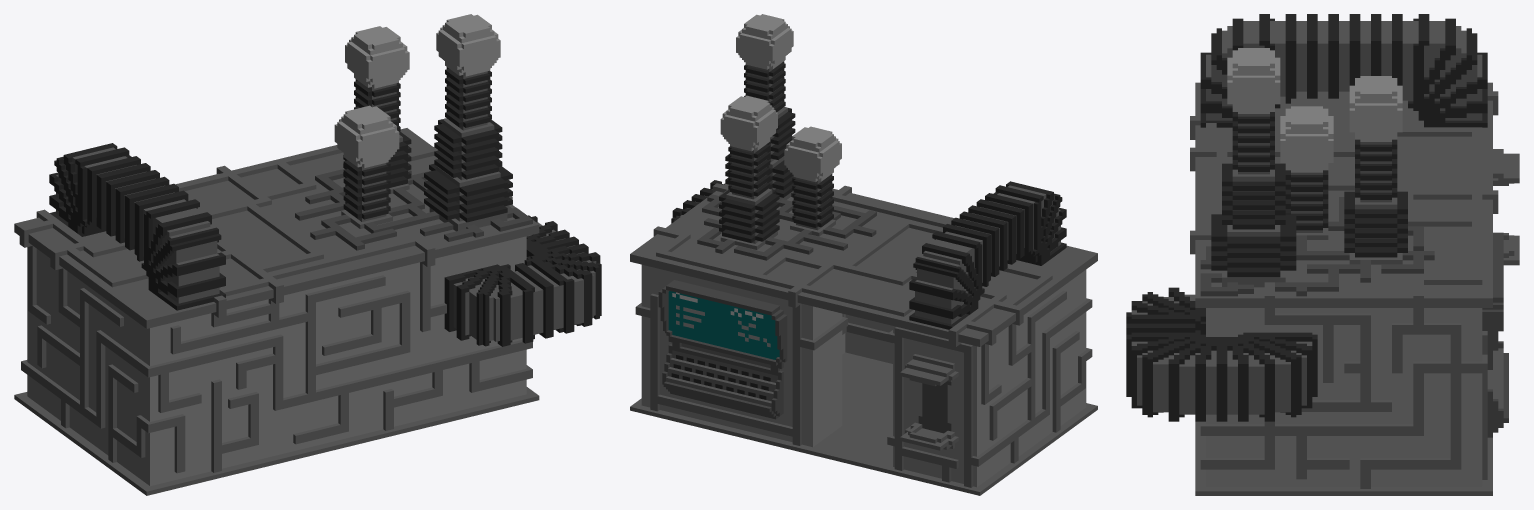
The model's file is Robot_vox-1-3.obj.
3 renders of one model, left to right at view 1: azimuth 30°, elevation 25°; view 2: azimuth 150°, elevation 25°; view 3: azimuth 270°, elevation 25°, orthographic. The views are drawn at different scales.
Bounding box in the file's own units: 10.9 × 8.6 × 7.4.
Materials: 1 (1 with a texture image).
